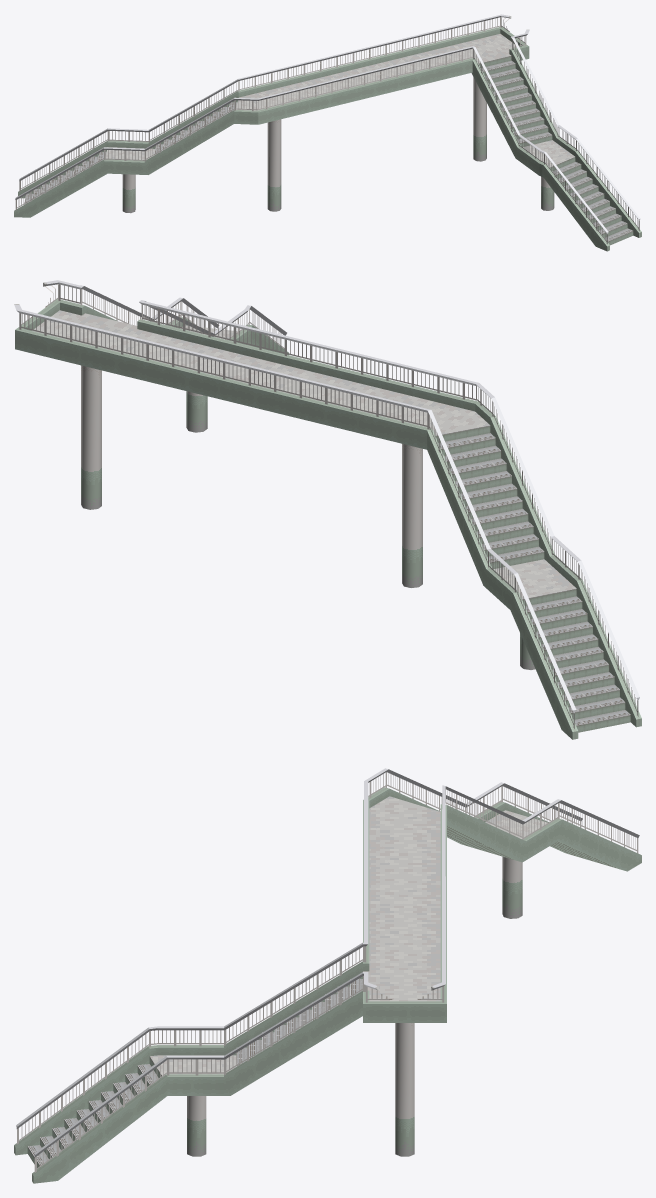
File: 010c_Pedestrian_Bridge.glb
3 views of the same model, one above another, from view 1: azimuth 30°, elevation 25°; view 2: azimuth 150°, elevation 25°; view 3: azimuth 270°, elevation 25° (orthographic). The views are drawn at different scales.
Visible parts, largest first — view 1: part_0; view 2: part_0; view 3: part_0.
Part boxes in pixels (x1=…): part_0: x1=14, y1=14, x2=641, y2=251; part_0: x1=14, y1=280, x2=641, y2=739; part_0: x1=14, y1=768, x2=641, y2=1183.
Size of the model in its own units: 19.08 by 5.1 by 14.93.
Materials: 1 (1 with a texture image).
